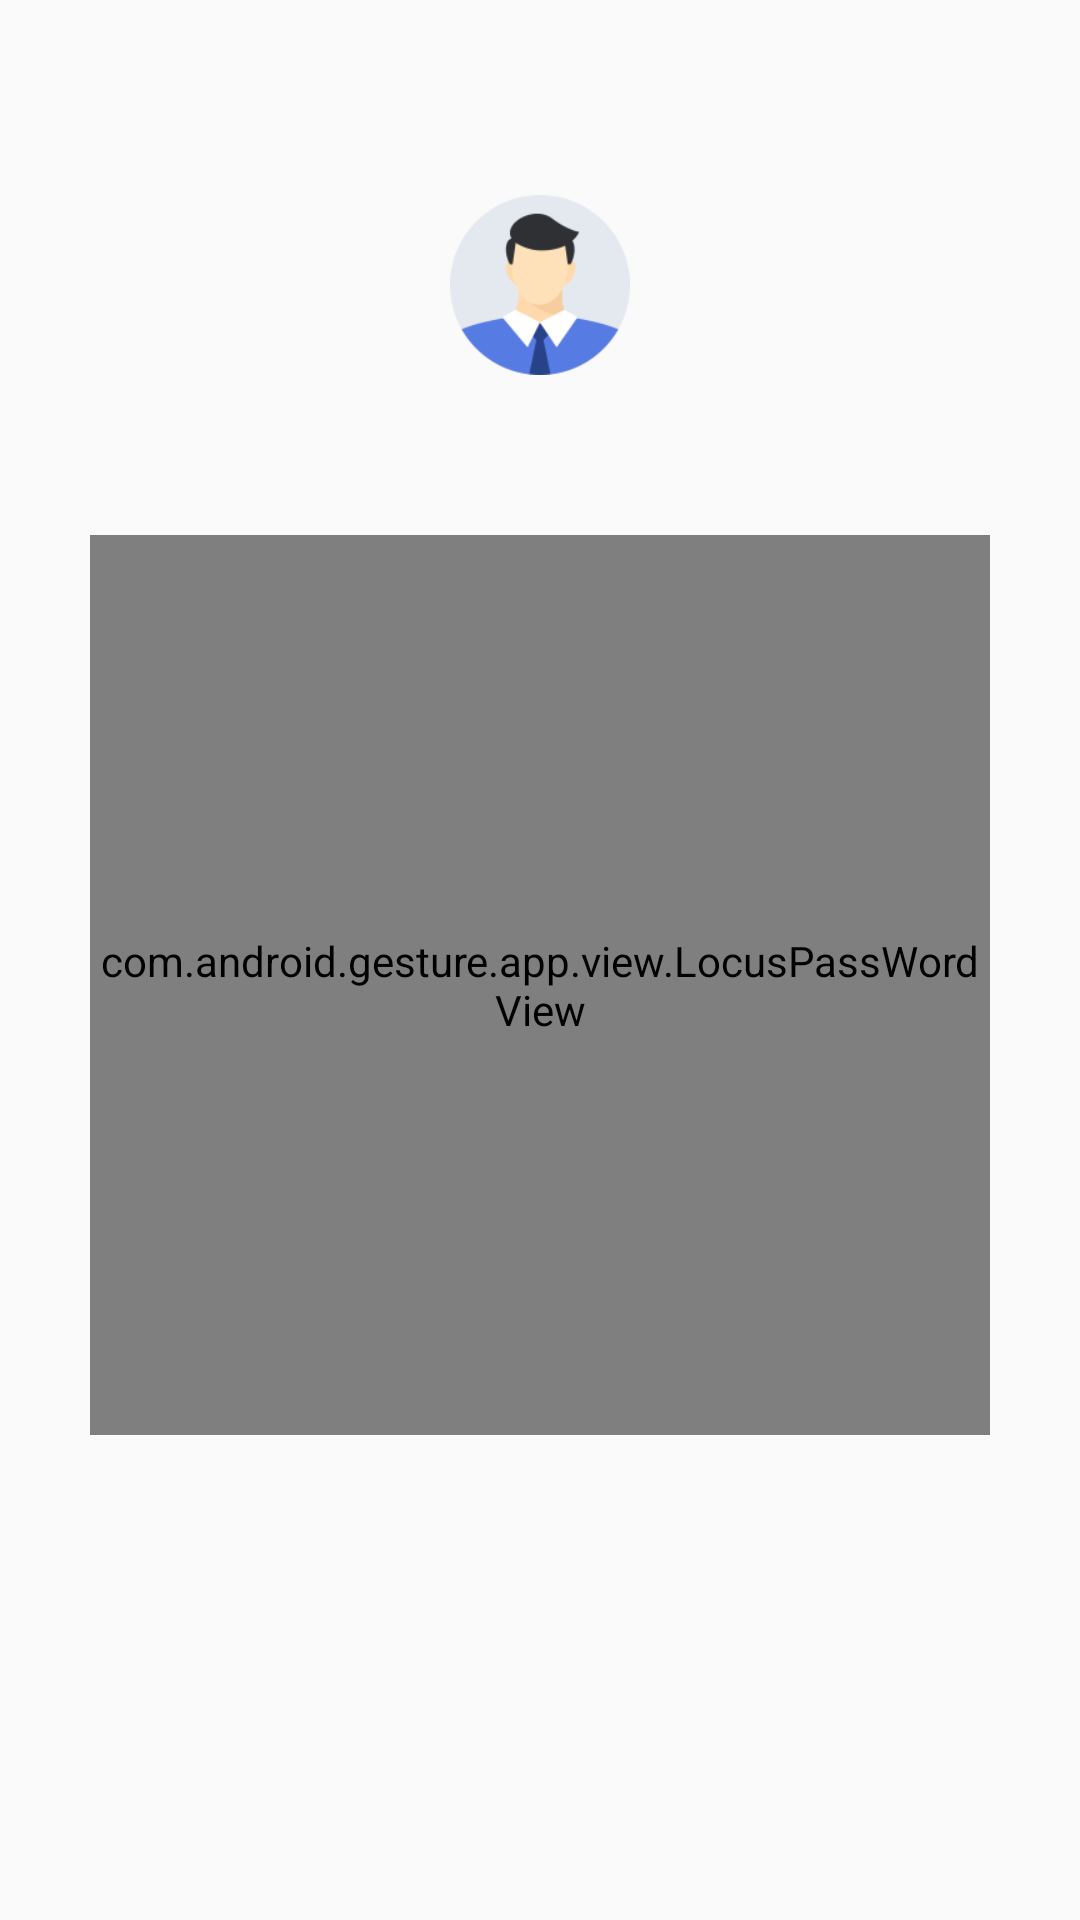

Icon click points for this 1080w x 1920h phone screenshot, format point (x, y):
touxiang: point (540, 285)
